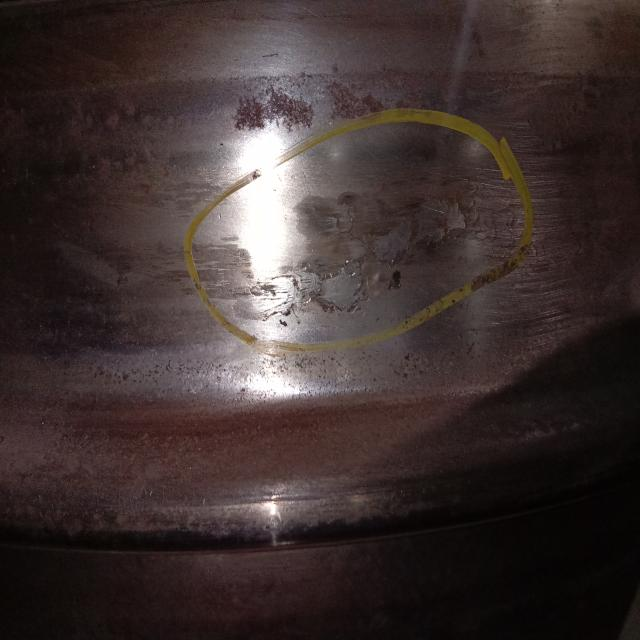flat: (256, 185, 420, 327)
